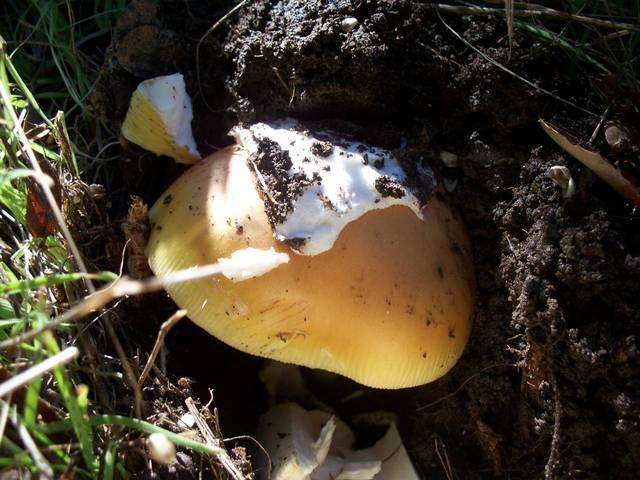edible_mushroom: (143, 114, 478, 391)
